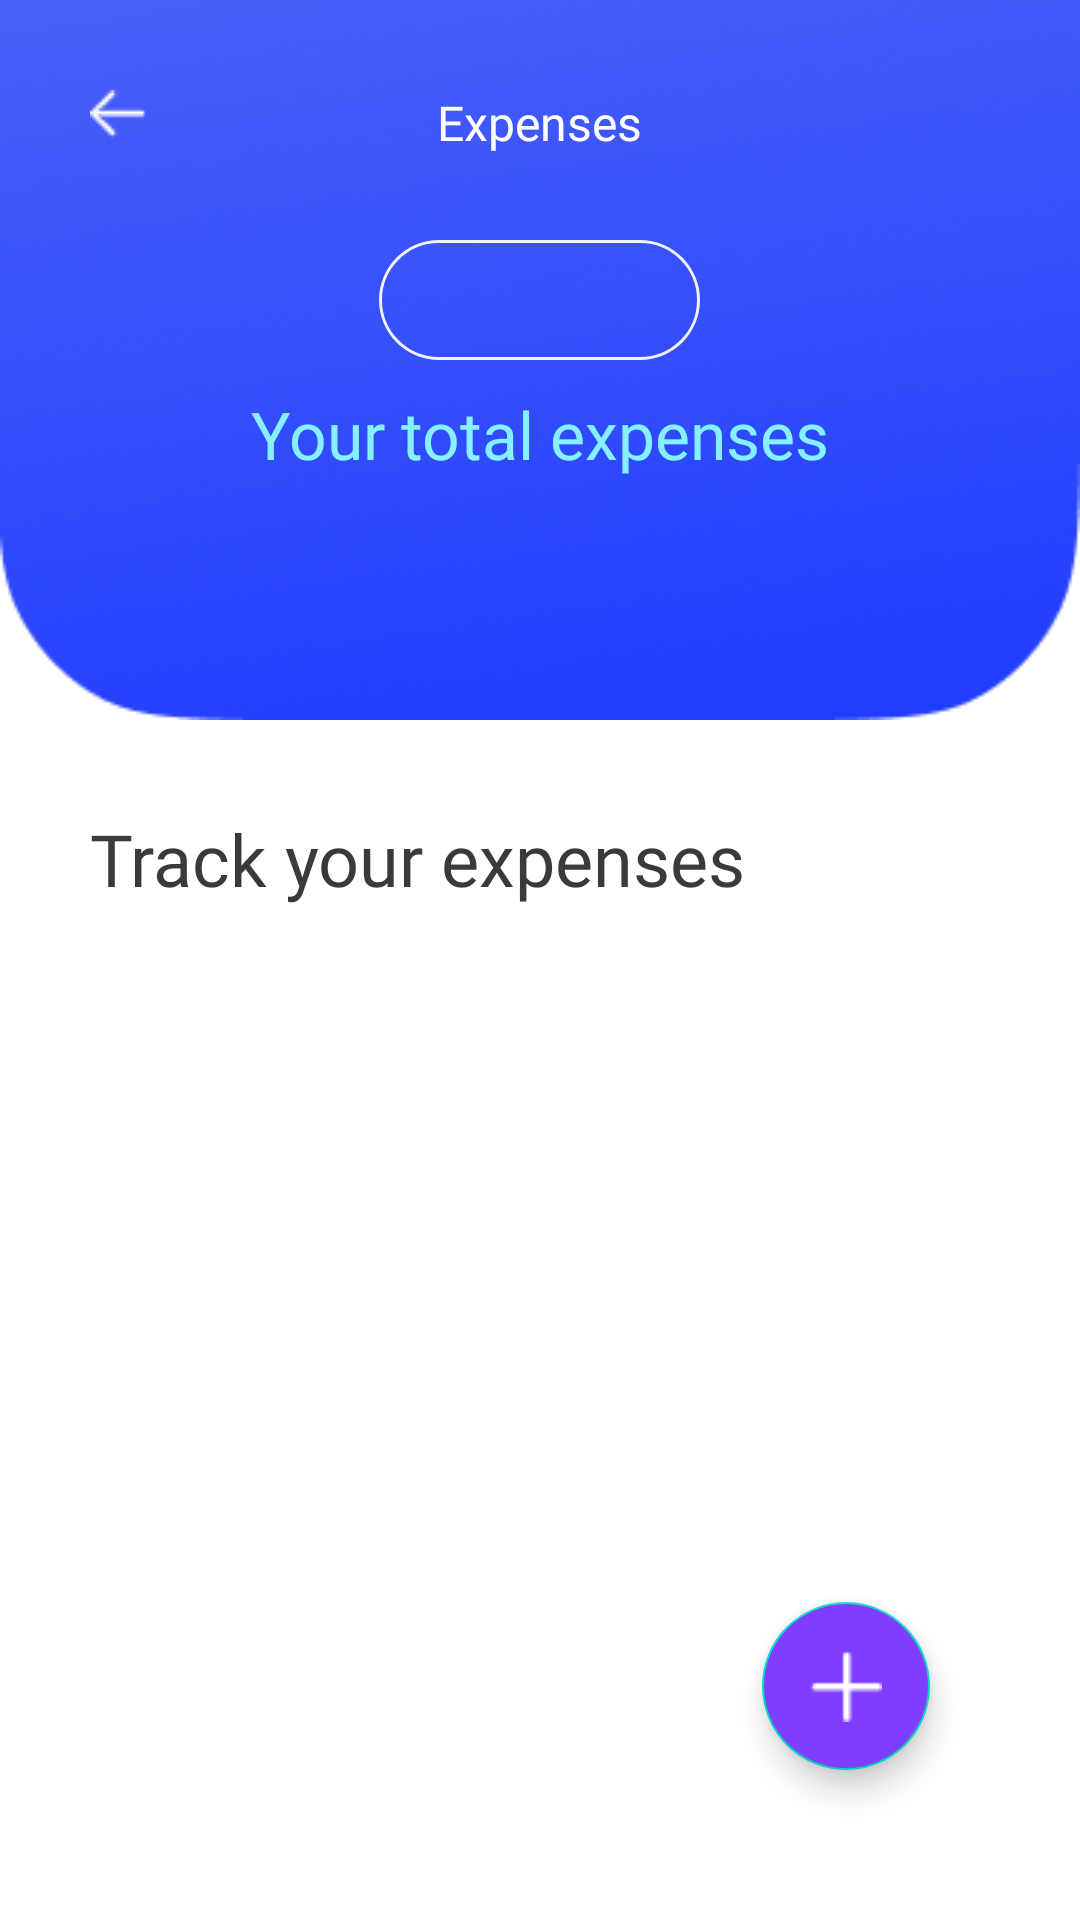

Icons on this 1080 x 1920 Android screen, each with its box as (x1, y1, x2, y2):
add: (762, 1602, 930, 1770)
back: (90, 90, 145, 136)
